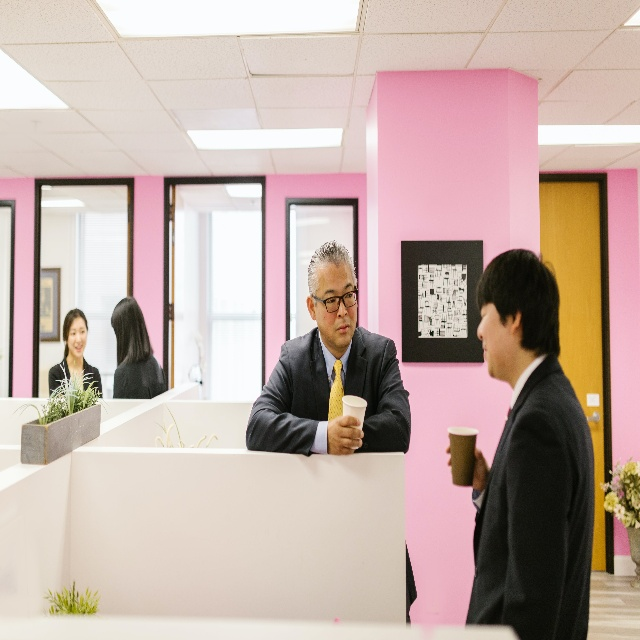Gafas: (324, 288, 357, 314)
Sin_guantes: (444, 431, 486, 491), (328, 412, 364, 456)
